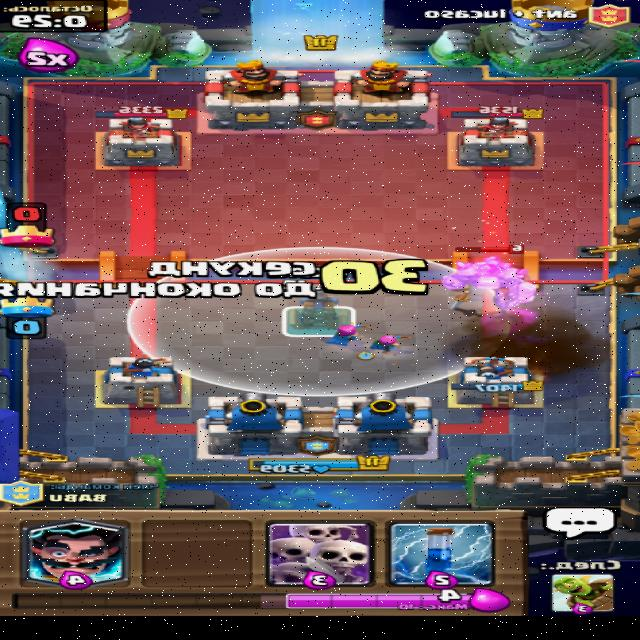Enemy-Golem: (443, 244, 541, 307)
Player-Archer: (327, 324, 374, 346), (370, 334, 413, 353)
